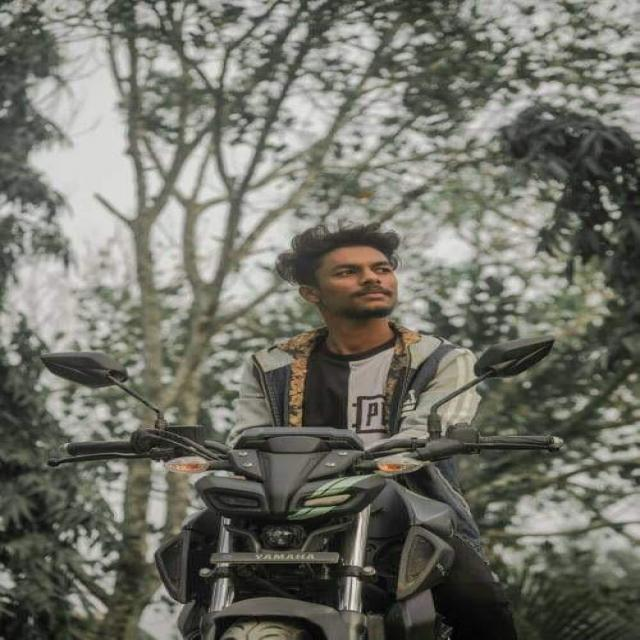No helmet: (279, 217, 407, 330)
